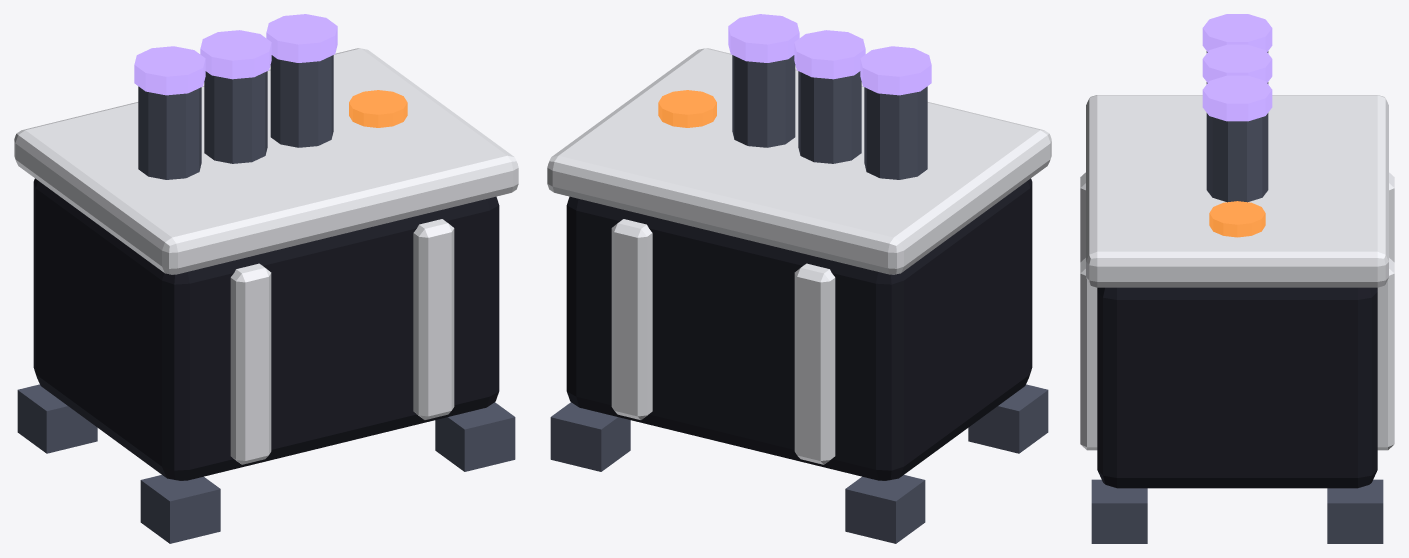
The model's file is pickup_ammo.glb.
3 renders of one model, left to right at view 1: azimuth 30°, elevation 25°; view 2: azimuth 150°, elevation 25°; view 3: azimuth 270°, elevation 25°, orthographic. The views are drawn at different scales.
Parts seen in each view (by area): view 1: pickup_ammo; view 2: pickup_ammo; view 3: pickup_ammo.
Boxes of the visible parts, <box> form: pickup_ammo: <box>14,14,518,543</box>; pickup_ammo: <box>547,14,1051,543</box>; pickup_ammo: <box>1080,14,1394,543</box>.
Bounding box in the file's own units: 0.7 × 0.7675 × 0.56.
